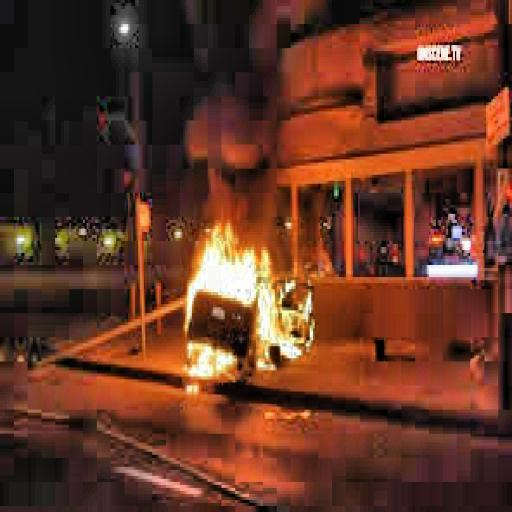fire: (176, 208, 330, 388)
